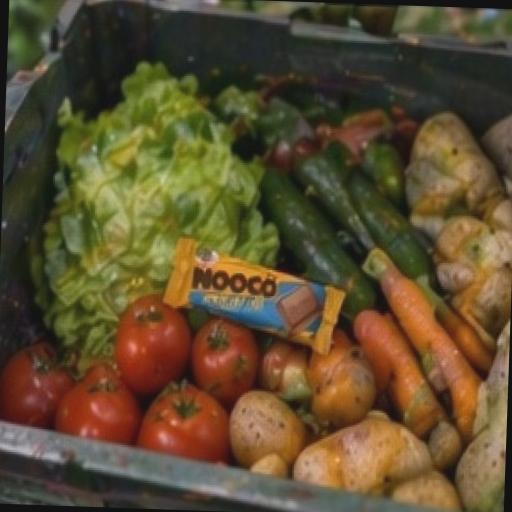biscuit-detection: (152, 206, 357, 392)
